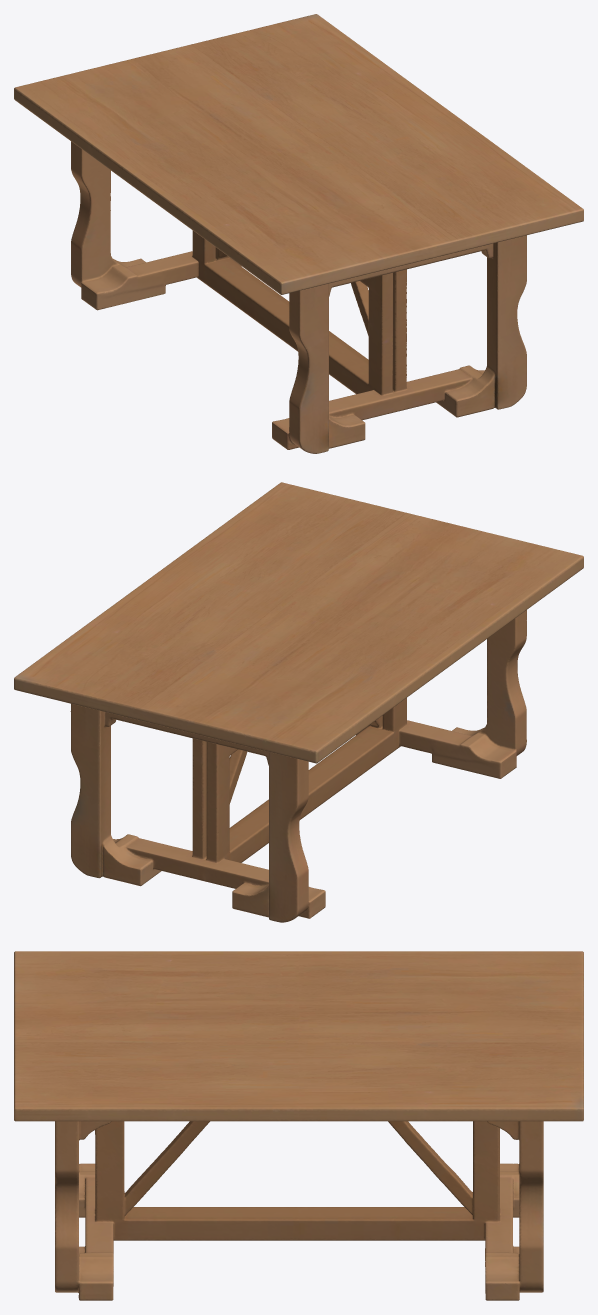
Rendered from detailed_realistic_model_grand_01.glb.
3 renders of one model, top to bottom at view 1: azimuth 30°, elevation 25°; view 2: azimuth 150°, elevation 25°; view 3: azimuth 270°, elevation 25°, orthographic. The views are drawn at different scales.
Parts seen in each view (by area): view 1: tripo_node_5f49a08d-095c-4ee1-a44d-140654d3809f; view 2: tripo_node_5f49a08d-095c-4ee1-a44d-140654d3809f; view 3: tripo_node_5f49a08d-095c-4ee1-a44d-140654d3809f.
Part boxes in pixels (x1,y1,x2,y2): tripo_node_5f49a08d-095c-4ee1-a44d-140654d3809f: [14, 14, 583, 453]; tripo_node_5f49a08d-095c-4ee1-a44d-140654d3809f: [14, 482, 583, 922]; tripo_node_5f49a08d-095c-4ee1-a44d-140654d3809f: [14, 951, 583, 1300].
Bounding box in the file's own units: 0.6546 × 0.4107 × 1.
1 material, 1 textured.
